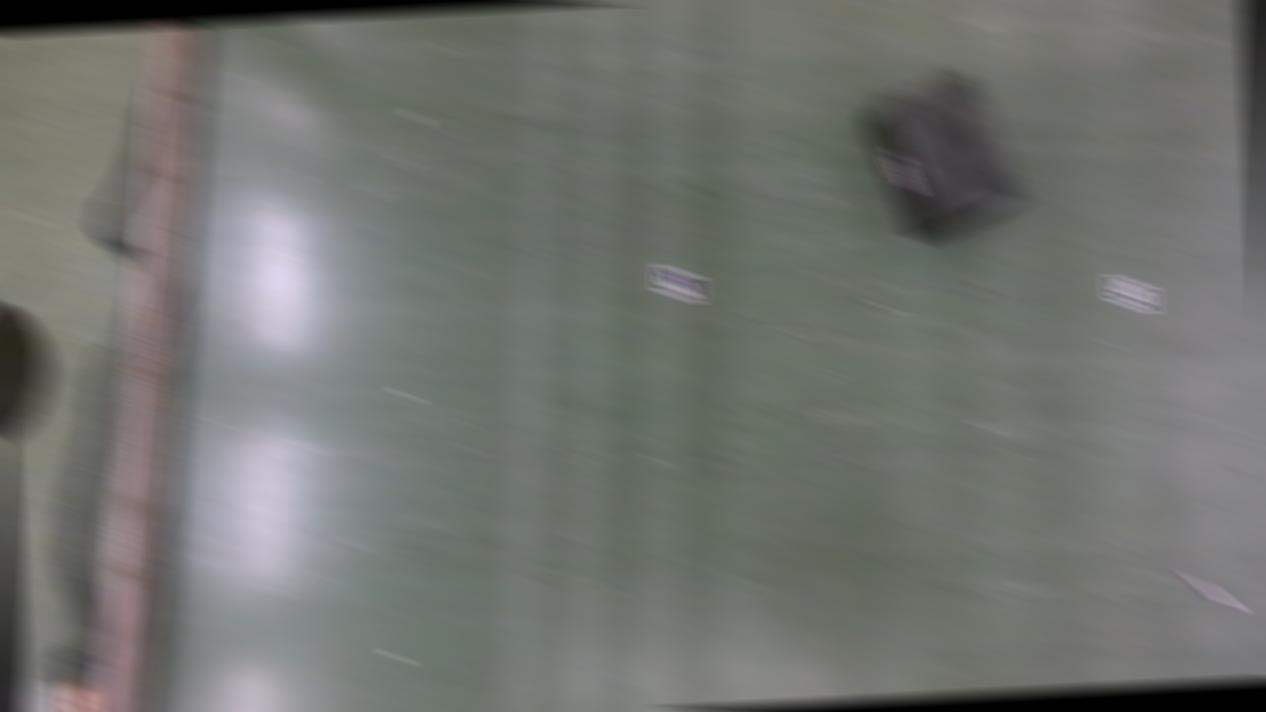probes: (1184, 571, 1237, 608)
rako: (862, 69, 1026, 242)
